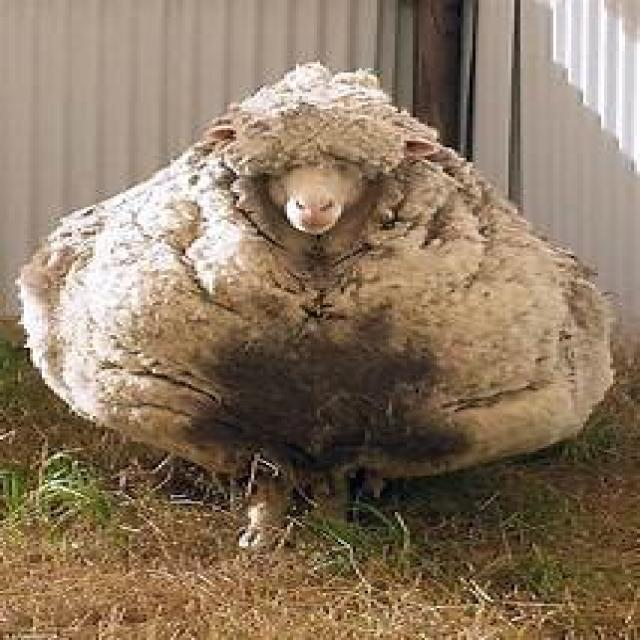animal: (12, 60, 619, 552)
